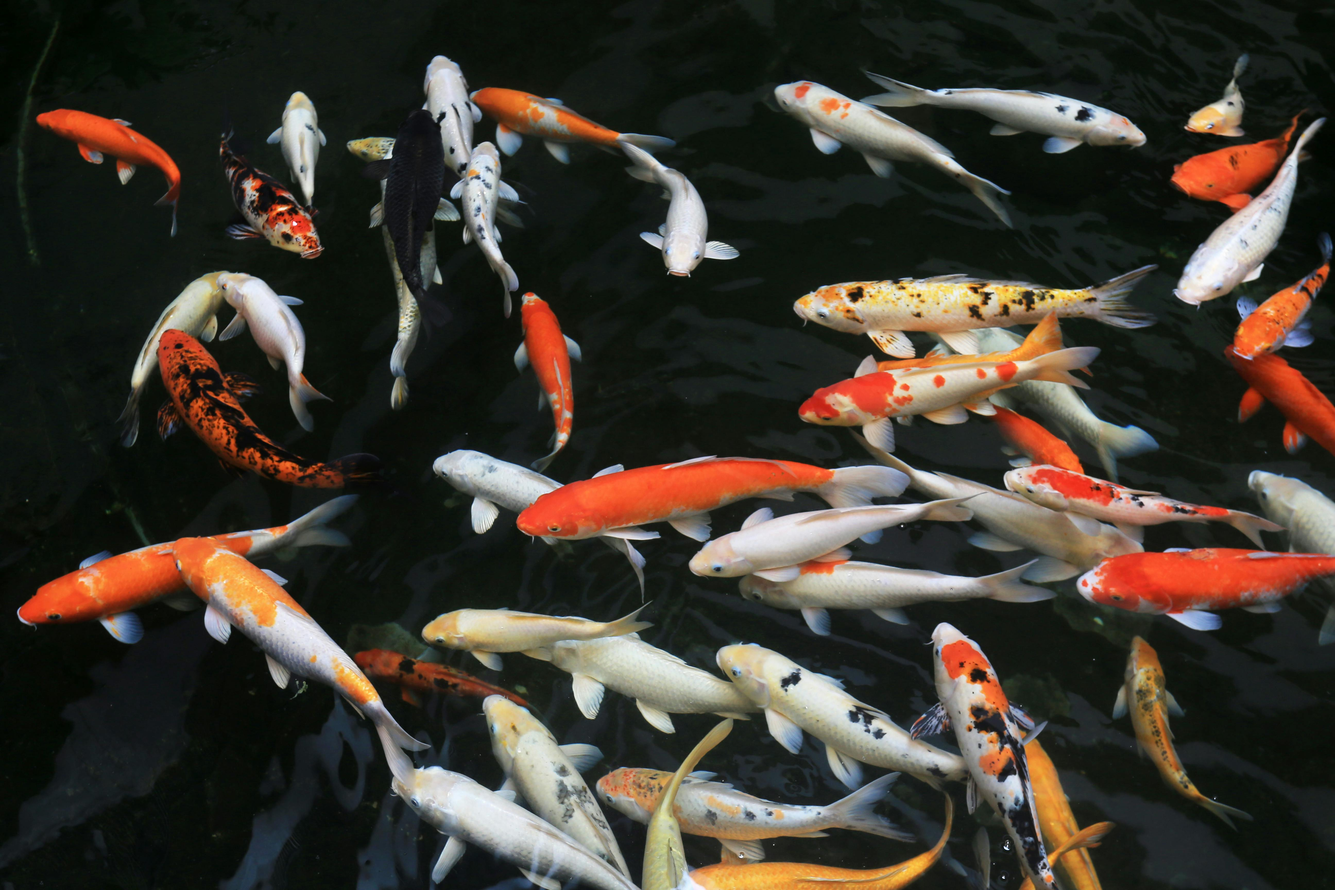fishes: (34, 107, 182, 237), (217, 124, 325, 258), (1229, 258, 1334, 362), (269, 92, 327, 219)
